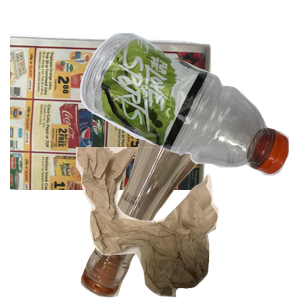glass: (78, 128, 298, 300)
paper: (10, 31, 214, 211)
plastic: (77, 30, 300, 198)
trash: (73, 147, 300, 300)
